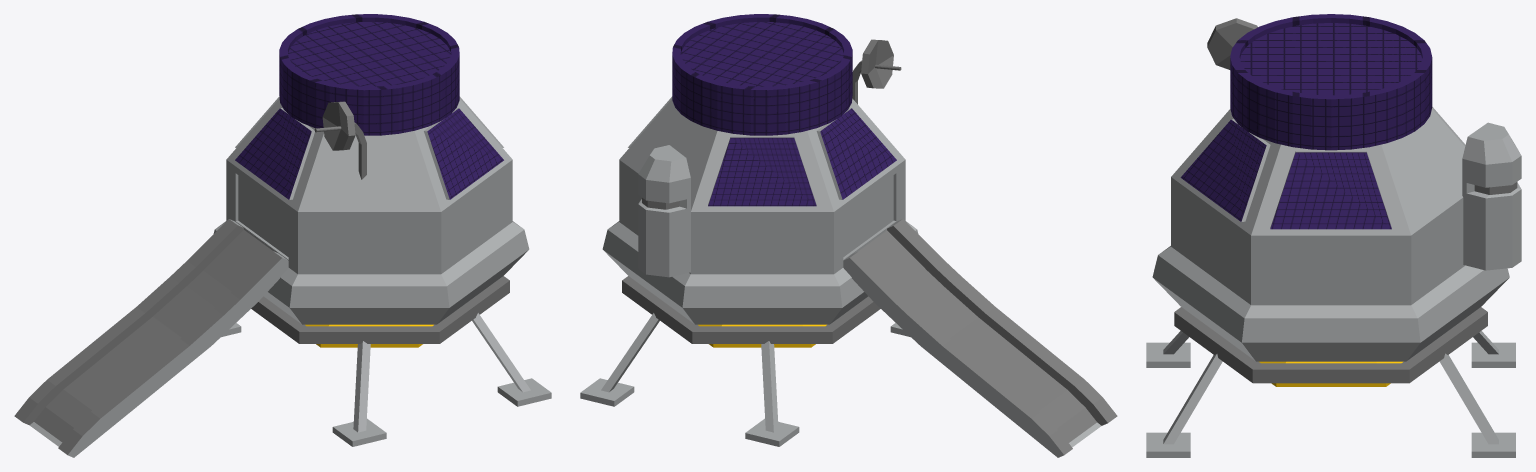
Rendered from lander_alt.fbx.
3 views of the same model, side by side, from view 1: azimuth 30°, elevation 25°; view 2: azimuth 150°, elevation 25°; view 3: azimuth 270°, elevation 25° (orthographic). The views are drawn at different scales.
Visible parts, largest first — view 1: Cuerpo.001, Solar.001, Patas.001, Antena.001; view 2: Cuerpo.001, Solar.001, Patas.001, Caja lateral.001, Antena.001; view 3: Cuerpo.001, Solar.001, Patas.001, Caja lateral.001, Antena.001.
Part boxes in pixels (<box>): Cuerpo.001: <box>14,96,529,457</box>; Solar.001: <box>279,14,459,135</box>; Patas.001: <box>221,276,551,446</box>; Antena.001: <box>322,101,366,179</box>; Cuerpo.001: <box>602,96,1117,457</box>; Solar.001: <box>672,14,852,135</box>; Patas.001: <box>580,276,910,446</box>; Caja lateral.001: <box>638,145,690,277</box>; Antena.001: <box>852,39,893,104</box>; Cuerpo.001: <box>1152,107,1509,386</box>; Solar.001: <box>1230,14,1432,150</box>; Patas.001: <box>1146,307,1515,457</box>; Caja lateral.001: <box>1462,122,1521,270</box>; Antena.001: <box>1207,18,1257,69</box>.
Size of the model in its own units: 2057 by 1360 by 1332.
